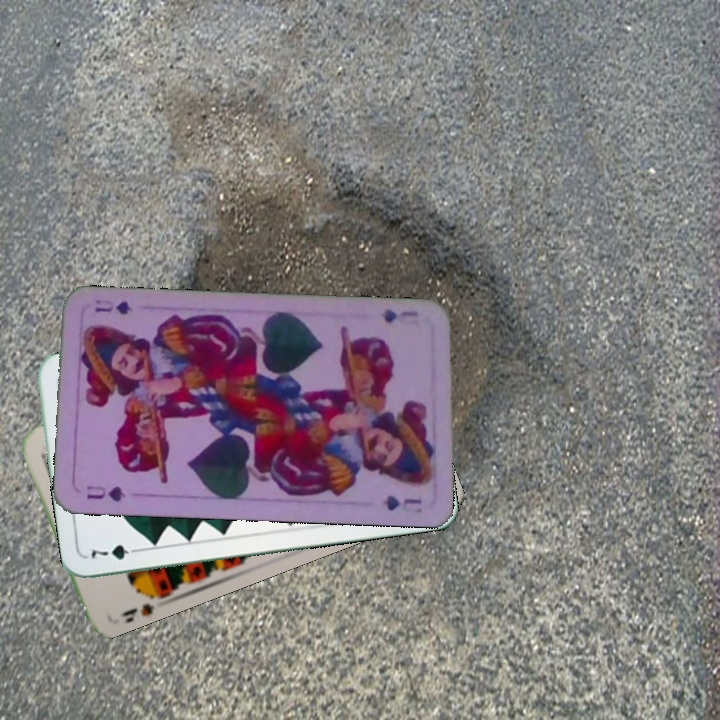G7: (85, 540, 145, 563)
GU: (83, 482, 129, 504), (377, 304, 421, 325)
S9: (115, 584, 166, 624)
